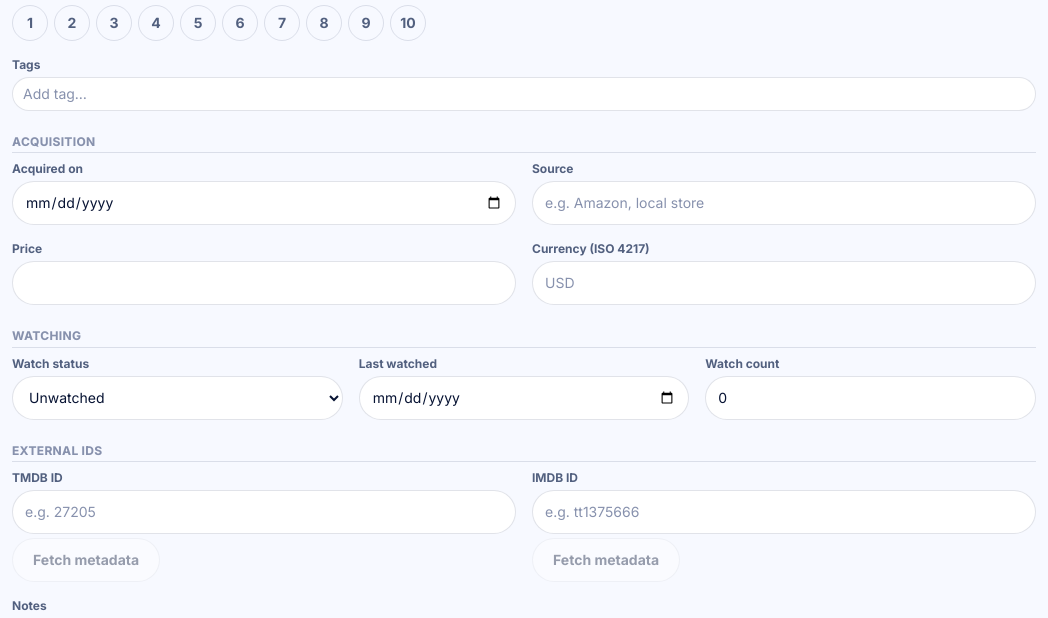
Test case: MovieForm — Fetch metadata by TMDB ID › shows a not-found hint when the lookup misses
The width and height of the screenshot is (1048, 618).
(page scrolled)
Type "9999999" into the field with placeholder "e.g. 27205". click: {"x": 264, "y": 512}
box: top-left (12, 490), bottom-right (516, 534)
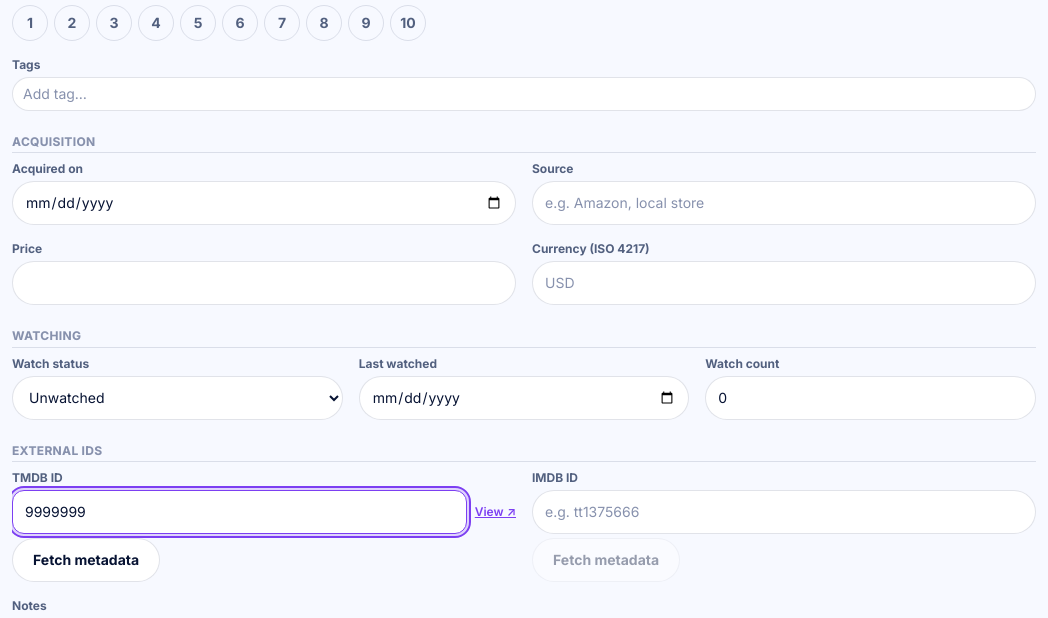
Click the button with aria-label "fetch metadata by tmdb id". click: {"x": 86, "y": 560}
box: top-left (12, 538), bottom-right (160, 582)
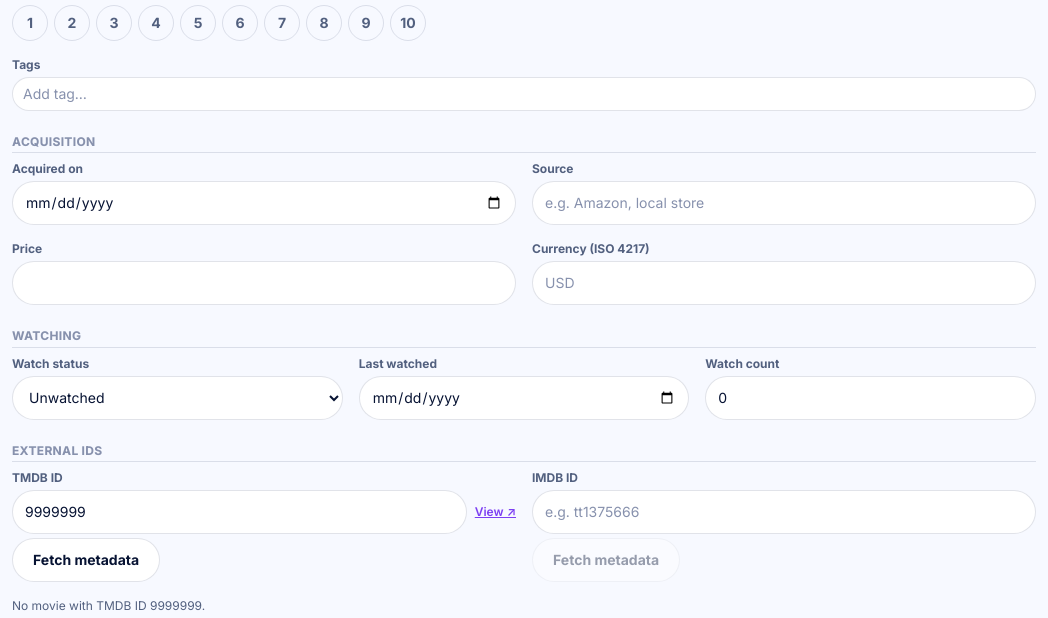
Now the text "No movie with TMDB ID 9999999." is shown, box top-left (12, 598), bottom-right (205, 613)
